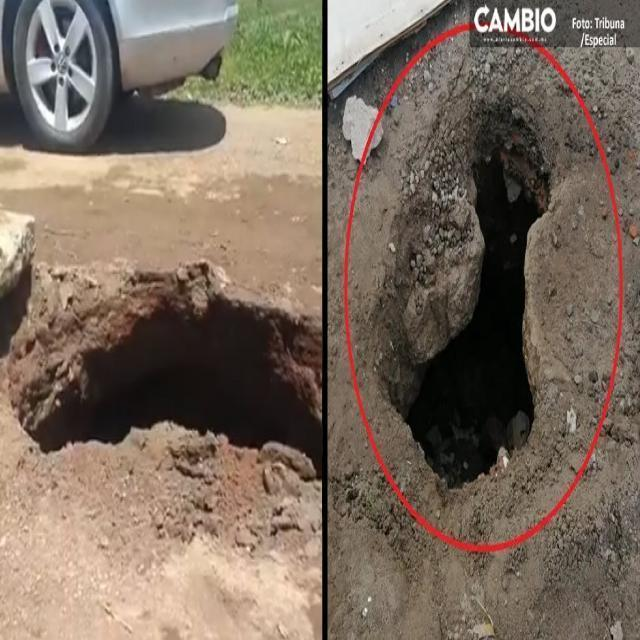pothole: (392, 30, 585, 559), (21, 263, 323, 529)
